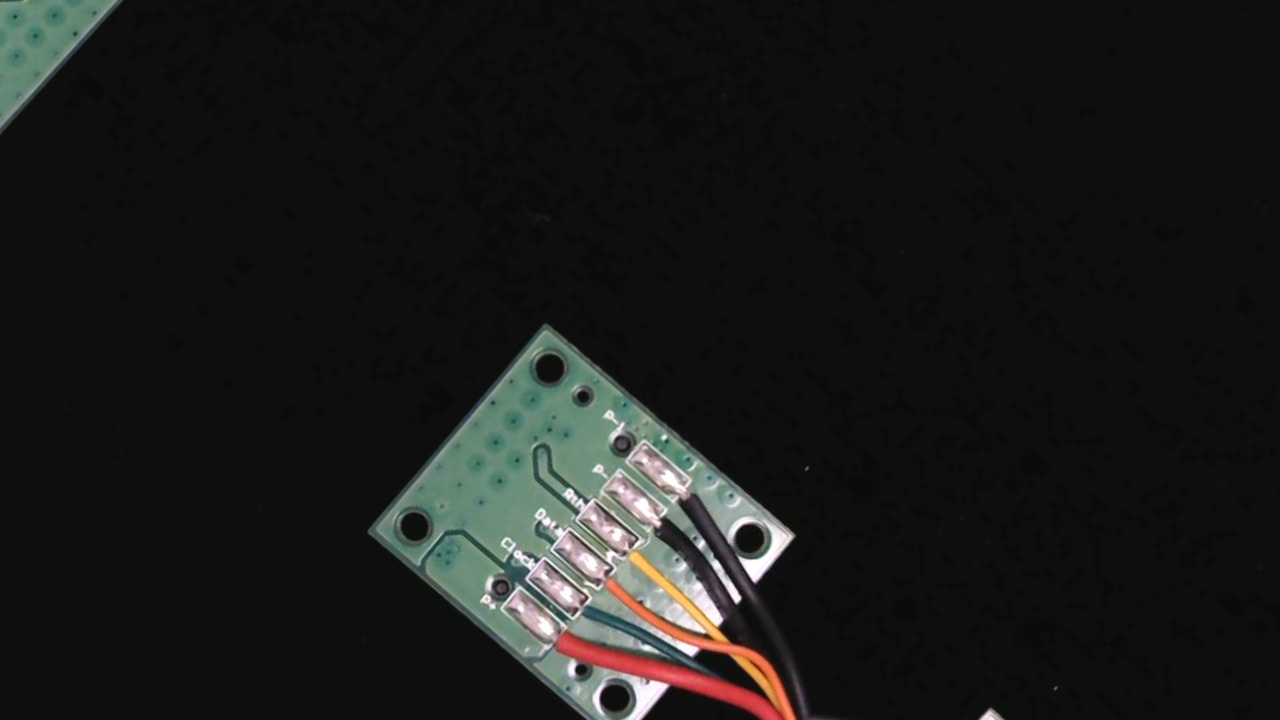Black: (634, 497, 701, 561)
Black1: (658, 465, 730, 534)
Green: (561, 588, 622, 646)
Orange: (584, 557, 651, 621)
Red: (533, 613, 608, 685)
Yellow: (608, 525, 686, 600)
